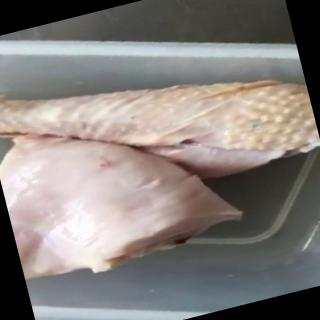Ayam: (1, 11, 320, 229), (1, 87, 249, 291)
